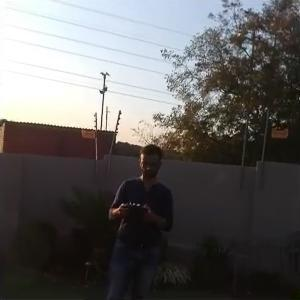follow: (98, 135, 186, 299)
